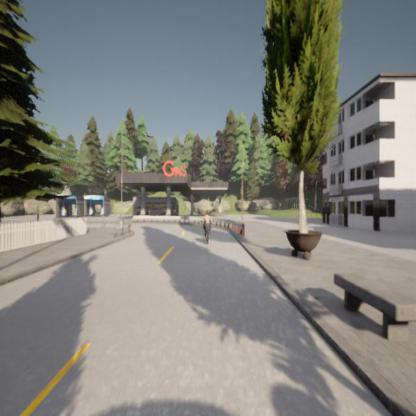motobike: (202, 209, 214, 244)
